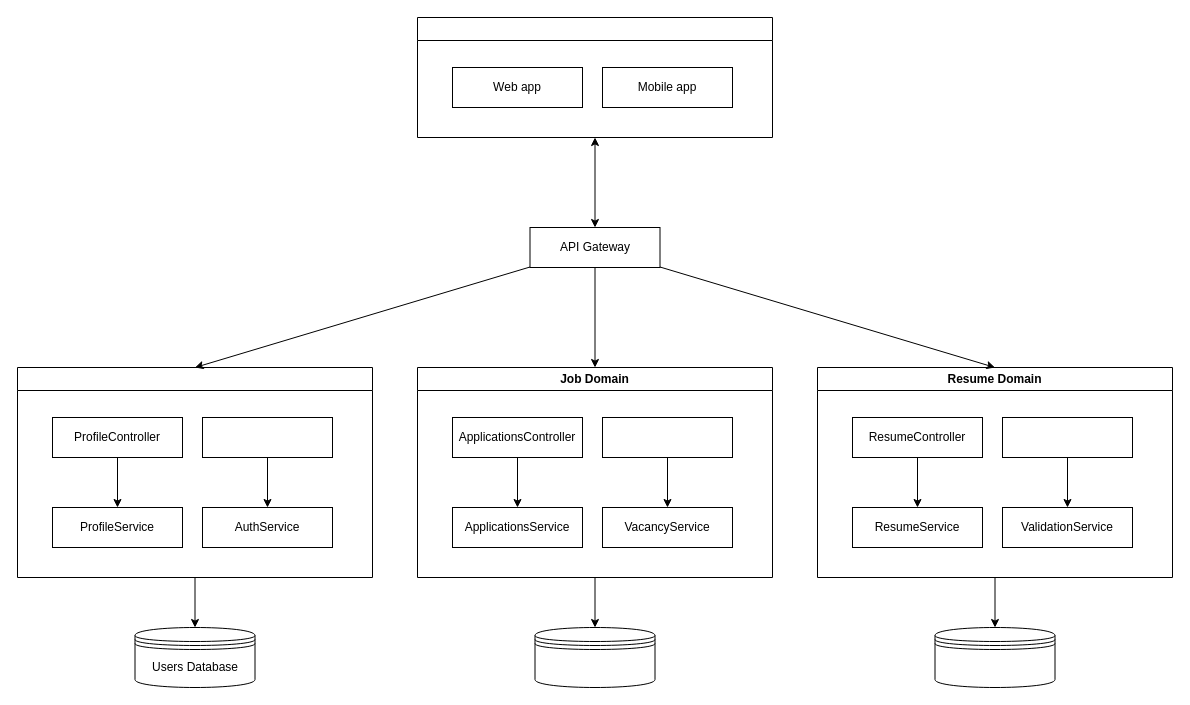
Image size: 1190x705. Some labels were removed from this diagram. The box of each missing label's shape, as (x1, y1, x2, y2) in pixels:
AuthController: (202, 416, 332, 458)
Client: (416, 16, 772, 138)
Jobs Database: (534, 626, 655, 688)
Resume Database: (934, 626, 1055, 688)
User Domain: (16, 366, 372, 578)
VacancyController: (602, 416, 732, 458)
ValidationController: (1002, 416, 1132, 458)
